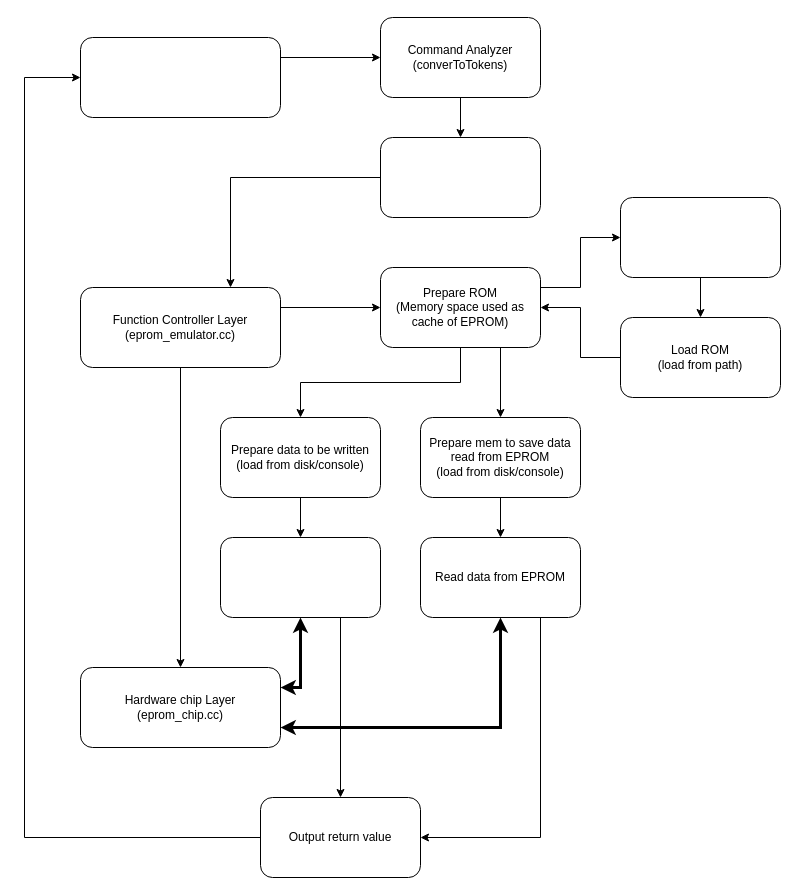
The diagram is 798 pixels wide and 895 high, and some of its shapes have lost their labels. Each missing label, with the centre of its shape:
"Command Caller (commandWrapper)" belongs at point 460,177.
"Load INI (Get the target ROM in disk, the target ROM name is saved in INI file)" belongs at point 700,237.
"Main Layer (main.cc)" belongs at point 180,77.
"Write data to EPROM" belongs at point 300,577.
